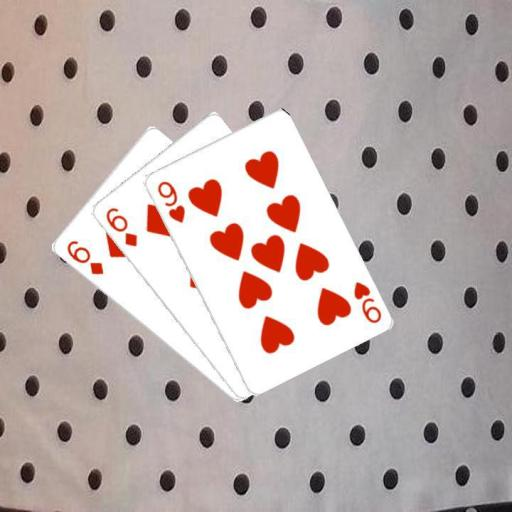6D: (63, 237, 105, 277), (102, 204, 139, 248)
9H: (154, 177, 186, 225), (350, 278, 382, 325)
